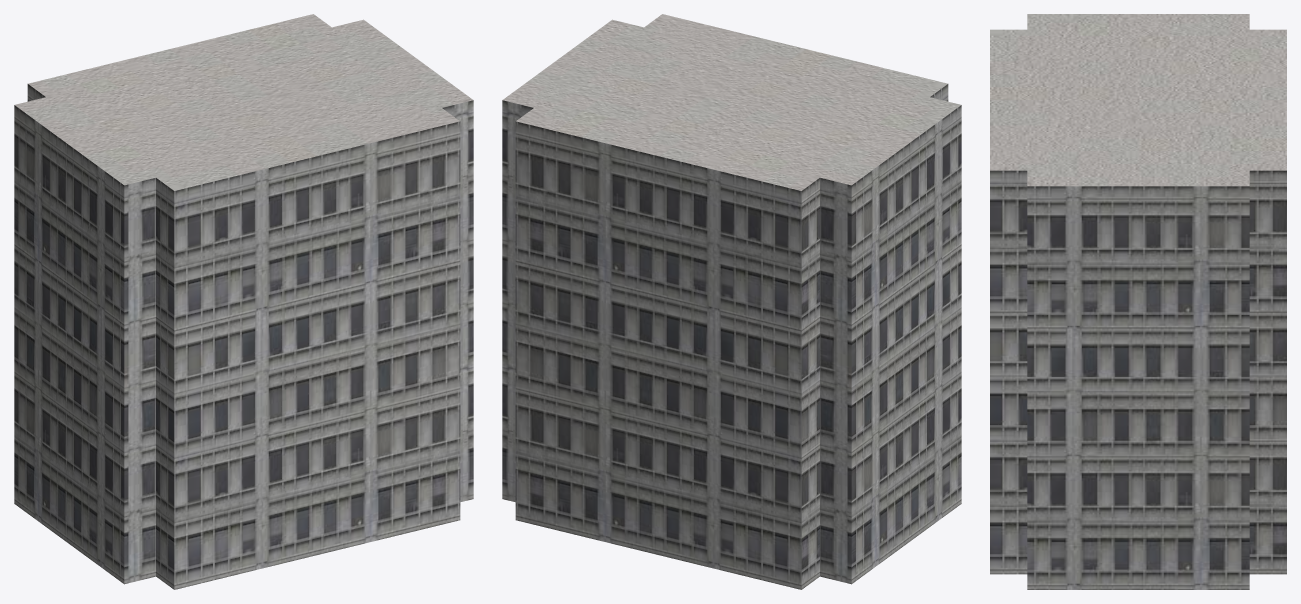
The model's file is building_018.fbx.
3 renders of one model, left to right at view 1: azimuth 30°, elevation 25°; view 2: azimuth 150°, elevation 25°; view 3: azimuth 270°, elevation 25°, orthographic.
Visible parts, largest first — view 1: building_018; view 2: building_018; view 3: building_018.
Part boxes in pixels (bbox=[...]): building_018: bbox=[14, 14, 473, 589]; building_018: bbox=[502, 14, 961, 589]; building_018: bbox=[990, 14, 1286, 589].
Size of the model in its own units: 1650 by 1800 by 1200.
